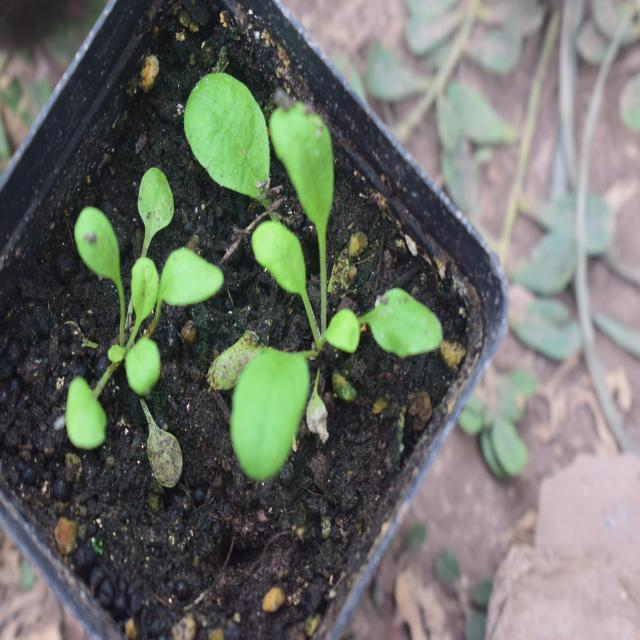Shepherd_Purse: (193, 70, 438, 460)
